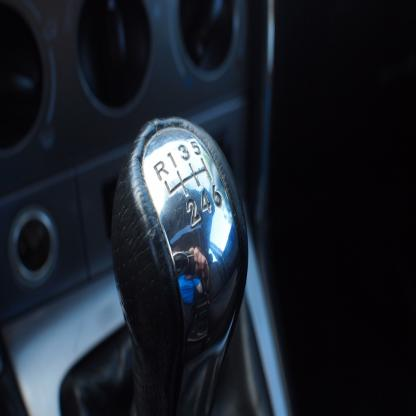Car: (1, 1, 416, 416)
